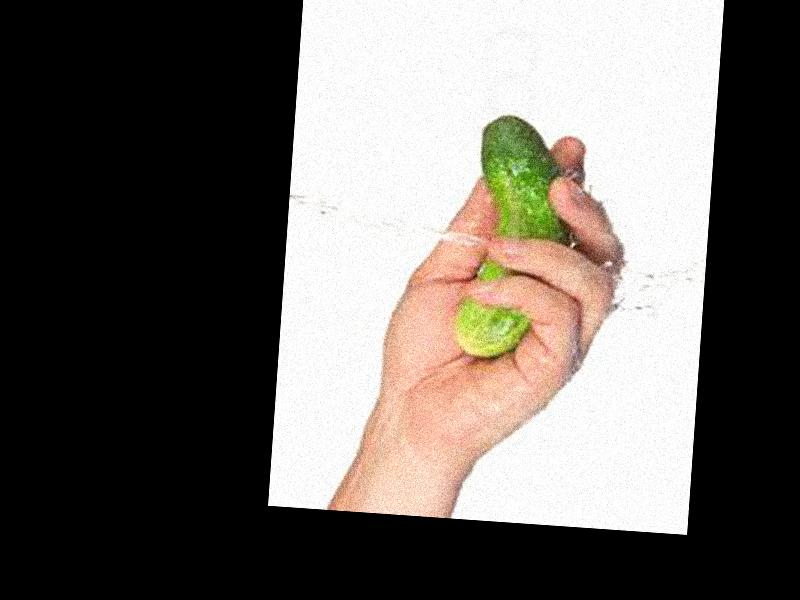Cucumber: (456, 112, 571, 360)
